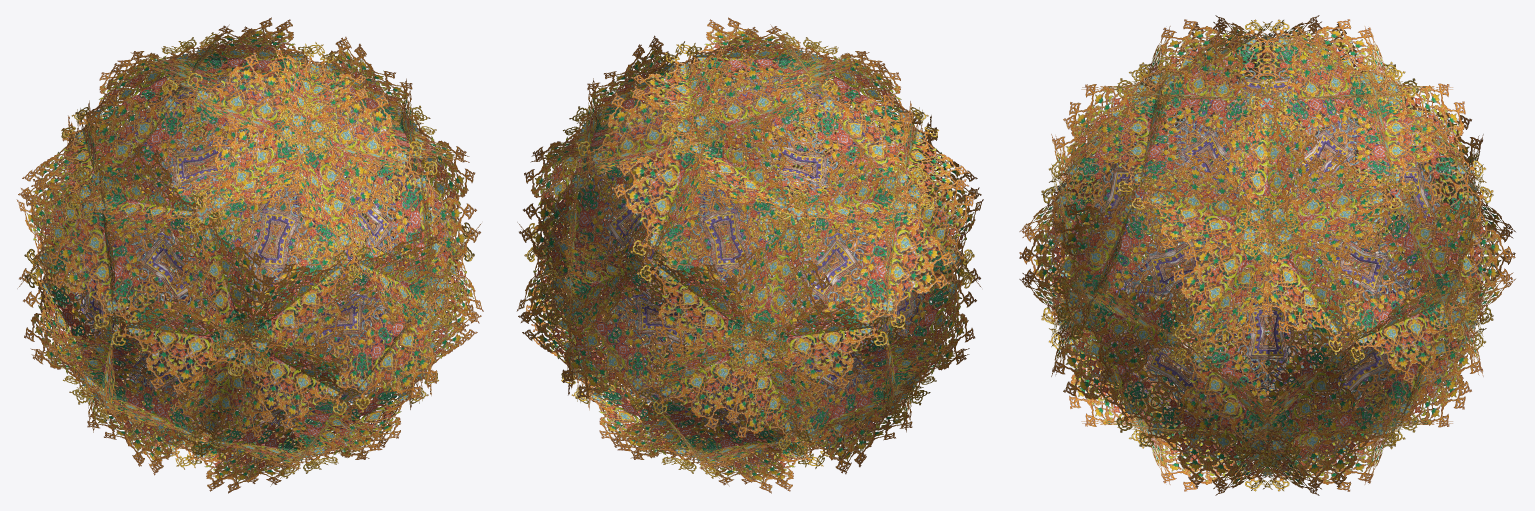
The model's file is Rhombicosahedron6.gltf.
The picture shows the model from 3 angles, left to right: view 1: azimuth 30°, elevation 25°; view 2: azimuth 150°, elevation 25°; view 3: azimuth 270°, elevation 25°; orthographic projection. The views are drawn at different scales.
Parts seen in each view (by area): view 1: Rhombicosahedron; view 2: Rhombicosahedron; view 3: Rhombicosahedron.
Boxes of the visible parts, bbox=[...] form: Rhombicosahedron: bbox=[16, 17, 483, 493]; Rhombicosahedron: bbox=[516, 17, 983, 493]; Rhombicosahedron: bbox=[1019, 15, 1515, 495].
Bounding box in the file's own units: 2.62 × 2.62 × 2.62.
Materials: 1 (1 with a texture image).
